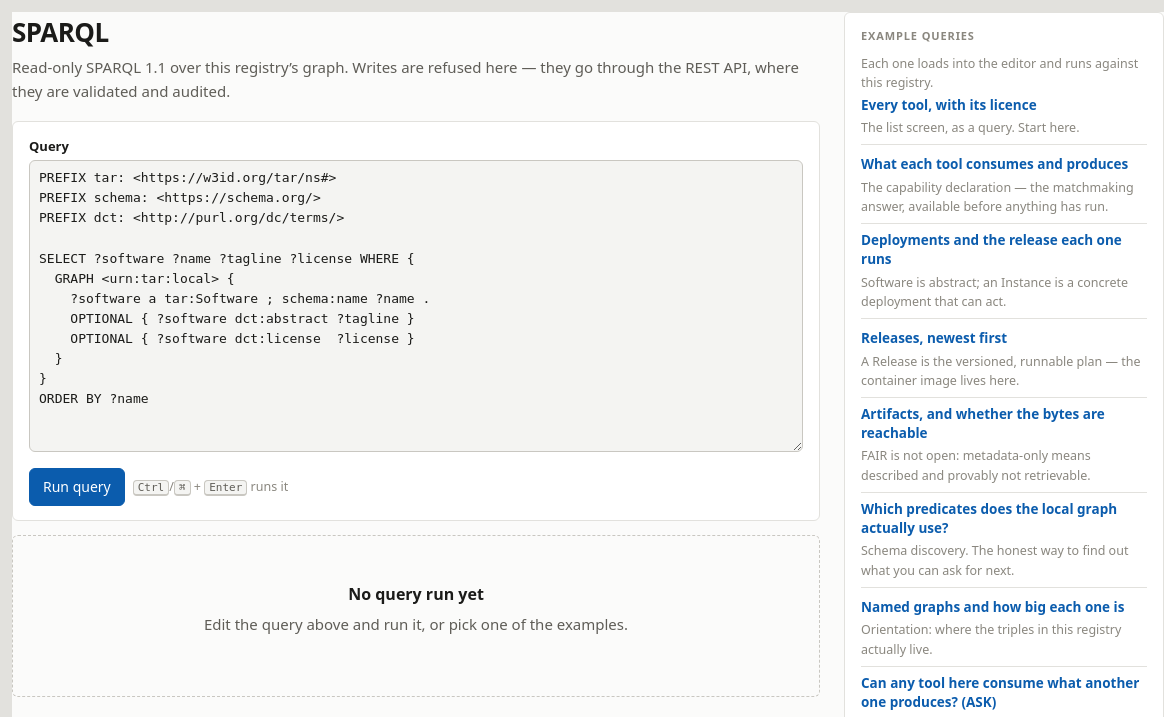
Test: Sparql › renders a SELECT as a table with the columns the result set declares
Click the button "Run query" at (77, 487), box [29, 468, 125, 506]
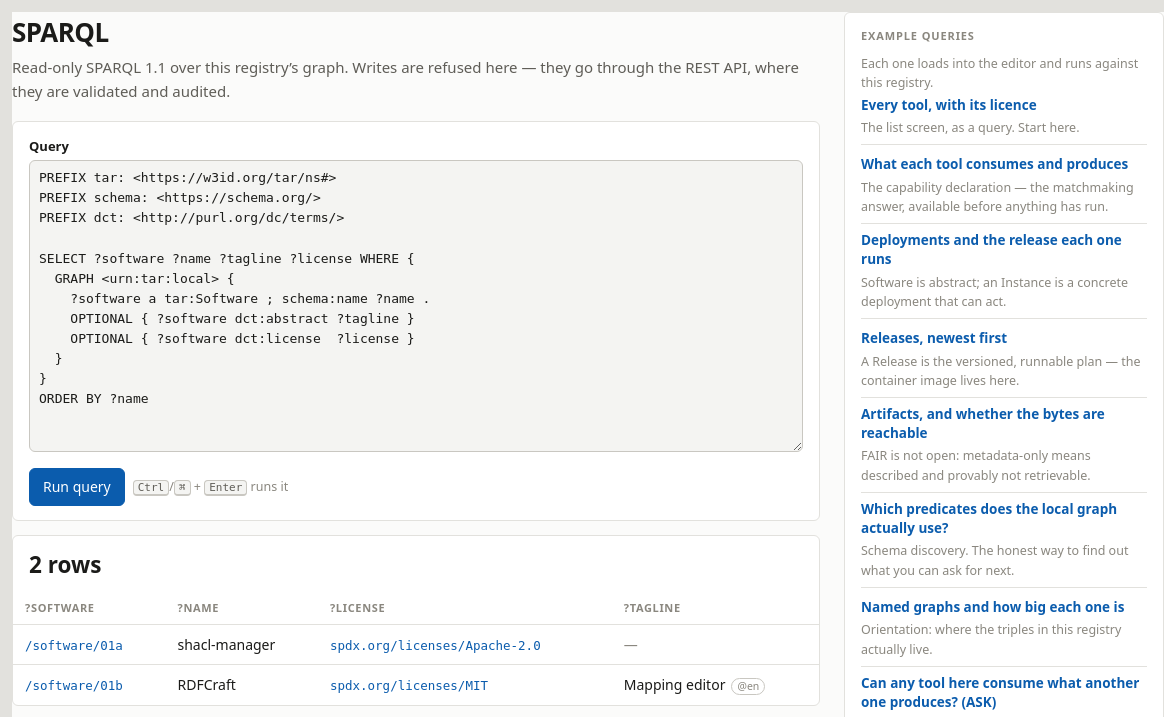
Now the column heading "?software" is shown, box [13, 591, 166, 624]
Now the column heading "?license" is shown, box [318, 591, 612, 624]
Now the text "shacl-manager" is shown, box [178, 634, 275, 656]
